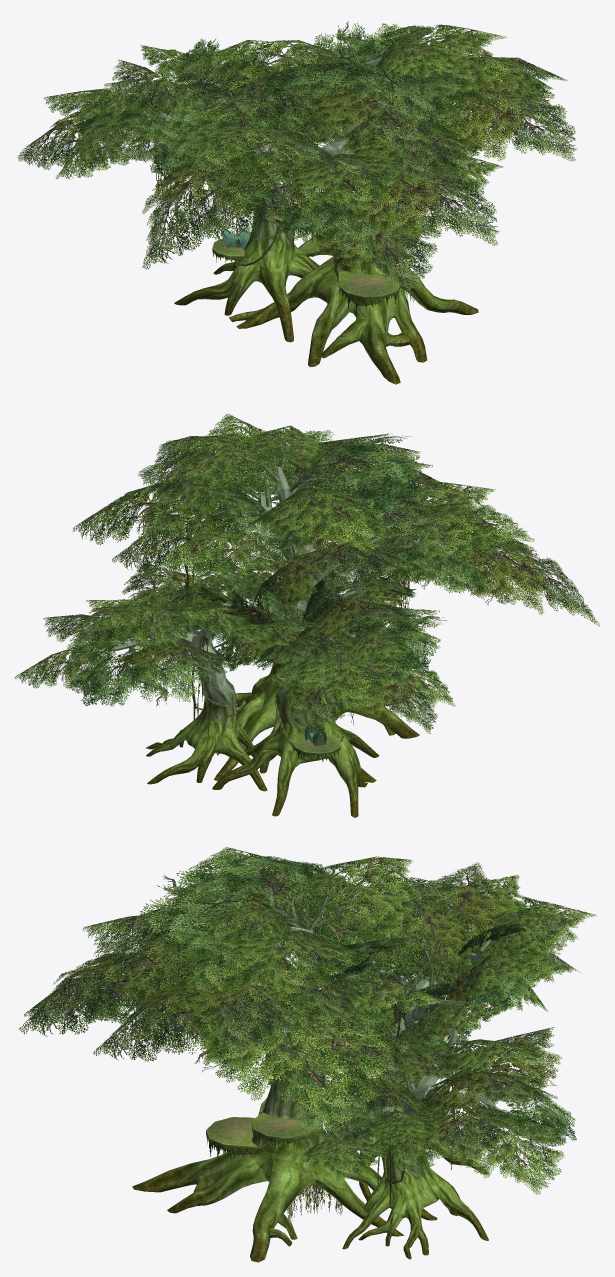
The model's file is TreeZone.FBX.
The picture shows the model from 3 angles, top to bottom: view 1: azimuth 30°, elevation 25°; view 2: azimuth 150°, elevation 25°; view 3: azimuth 270°, elevation 25°; orthographic projection. The views are drawn at different scales.
Visible parts, largest first — view 1: 340.obj, 338.obj, 339.obj, 343.obj, 342.obj, 344.obj, 345.obj, 335.obj, 333.obj; view 2: 340.obj, 338.obj, 339.obj, 343.obj, 345.obj, 342.obj, 341.obj, 333.obj, 337.obj, 344.obj; view 3: 338.obj, 340.obj, 339.obj, 343.obj, 342.obj, 345.obj, 344.obj, 333.obj, 341.obj, 335.obj, 337.obj.
Part boxes in pixels (x1,y1,x2,y2): 340.obj: (17,34,576,295); 338.obj: (44,24,553,213); 339.obj: (72,21,499,261); 343.obj: (174,233,478,384); 342.obj: (241,219,395,282); 344.obj: (212,206,417,296); 345.obj: (151,57,444,196); 335.obj: (212,218,417,313); 333.obj: (234,107,399,305); 340.obj: (43,436,599,733); 338.obj: (14,414,534,721); 339.obj: (69,430,501,706); 343.obj: (146,675,419,817); 345.obj: (112,467,469,680); 342.obj: (188,642,338,751); 341.obj: (201,592,321,708); 333.obj: (182,540,343,758); 337.obj: (184,538,409,724); 344.obj: (260,626,358,753); 338.obj: (82,847,596,1194); 340.obj: (19,862,580,1159); 339.obj: (74,853,576,1149); 343.obj: (132,1127,488,1262); 342.obj: (252,1091,438,1197); 345.obj: (189,907,499,1132); 344.obj: (206,1049,442,1146); 333.obj: (228,984,458,1205); 341.obj: (269,1033,428,1156); 335.obj: (206,1072,444,1161); 337.obj: (173,977,466,1220).
Bounding box in the file's own units: 395 × 225 × 382.
